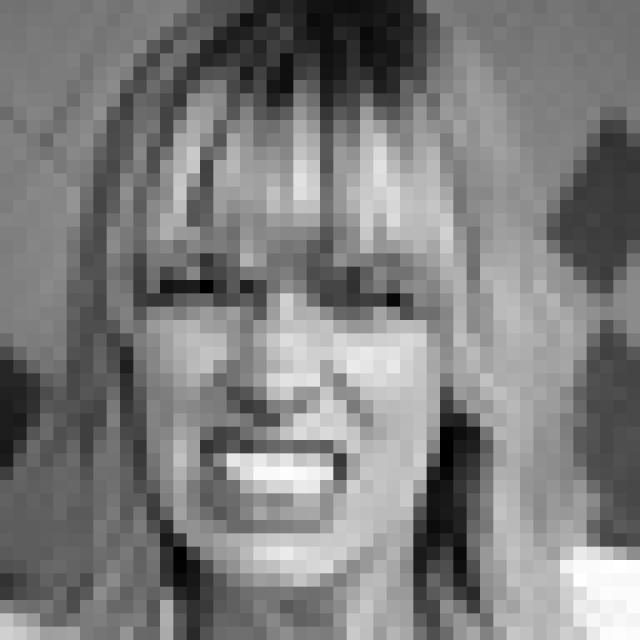angry: (146, 241, 423, 539)
